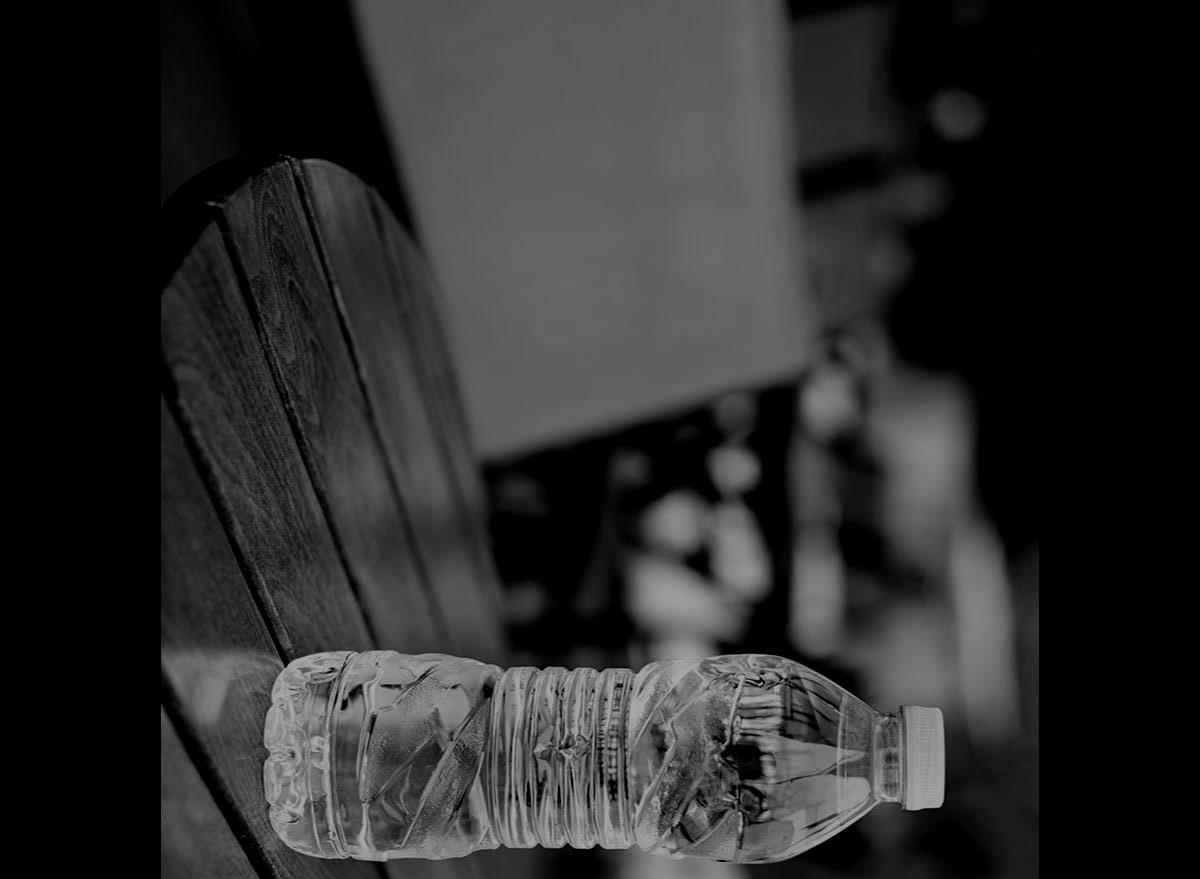bottle: (255, 642, 961, 874)
